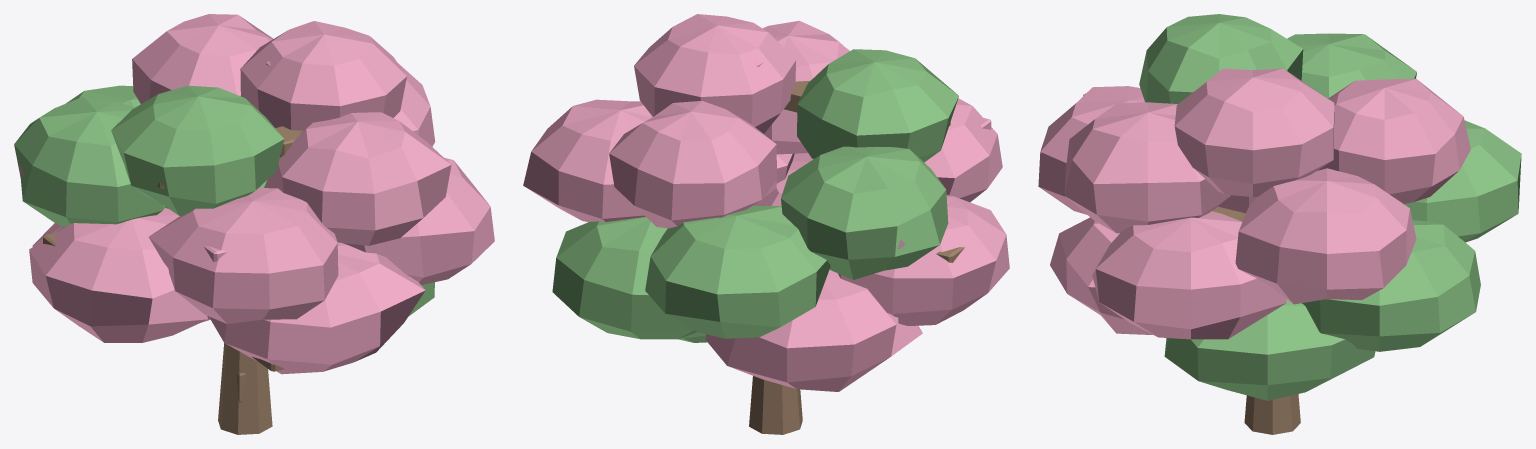
Rendered from b08_eastern_redbud.glb.
The picture shows the model from 3 angles, left to right: view 1: azimuth 30°, elevation 25°; view 2: azimuth 150°, elevation 25°; view 3: azimuth 270°, elevation 25°; orthographic projection.
Parts seen in each view (by area): view 1: b08_eastern_redbud; view 2: b08_eastern_redbud; view 3: b08_eastern_redbud.
Boxes of the visible parts, box(x1,y1,x2,y2) form: b08_eastern_redbud: box(14, 14, 494, 434); b08_eastern_redbud: box(523, 14, 1009, 434); b08_eastern_redbud: box(1038, 14, 1521, 434).
Size of the model in its own units: 3.91 by 3.4 by 3.93.
